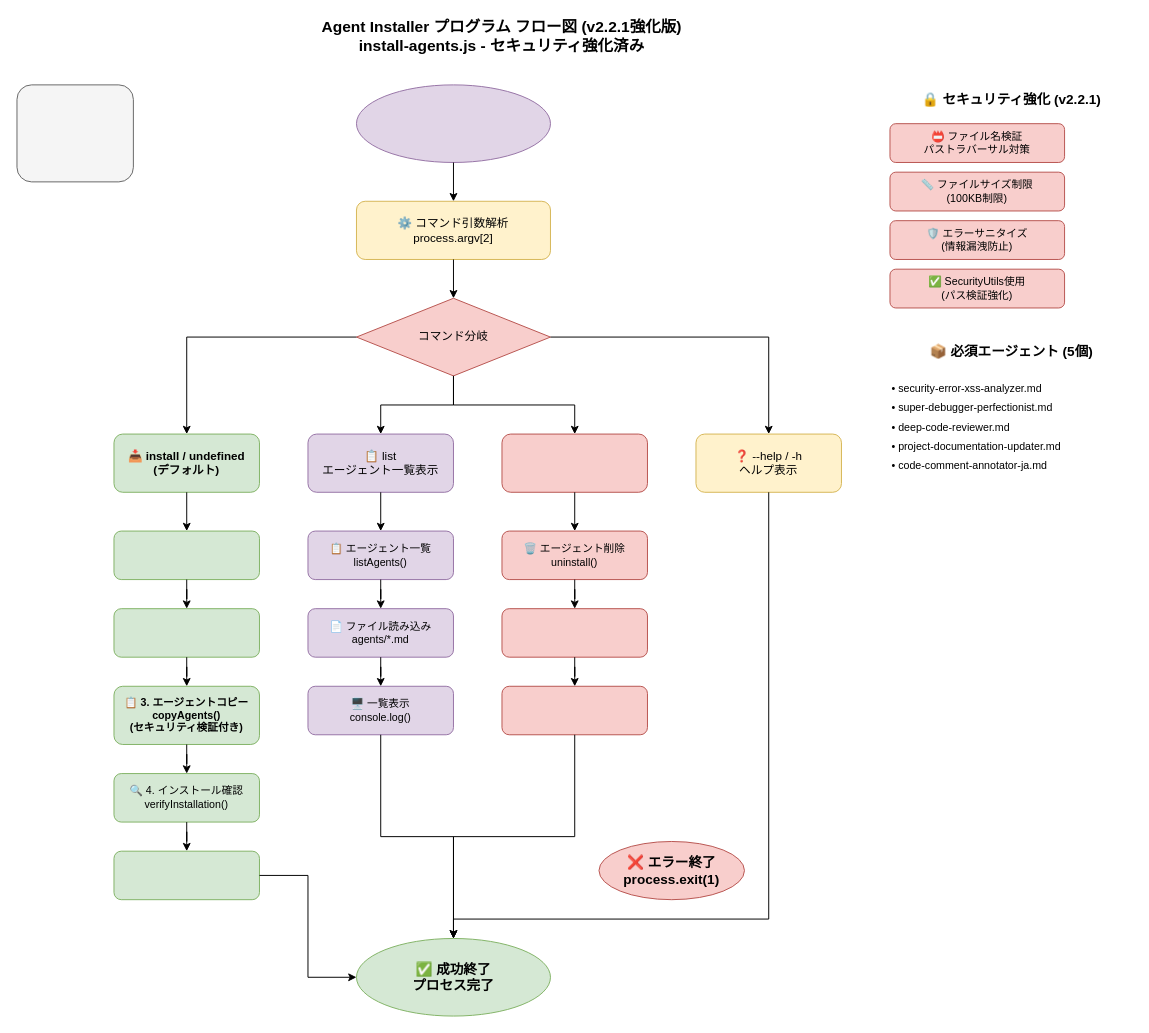
Some shapes in this 1149 by 1033 pixel diagram are drawn without their labels. The box of each missing label's shape, as (x1, y1, x2, y2) in pixels:
🎉 5. 完了メッセージ showCompletionMessage(): (113, 850, 259, 900)
📁 2. ターゲット作成 createTargetDirectory(): (113, 608, 259, 657)
📁 ファイル削除 fs.unlink(): (501, 608, 647, 657)
📊 削除カウンター removed count: (501, 685, 647, 735)
🔍 1. 環境チェック checkEnvironment(): (113, 530, 259, 580)
🔍 凡例 ━━ メインフロー 📥 インストール 📋 一覧表示 🗑️ アンインストール ❓ ヘルプ: (16, 84, 133, 182)
🗑️ uninstall エージェント削除: (501, 433, 647, 492)
🚀 開始 Agent Installer: (356, 84, 550, 162)
